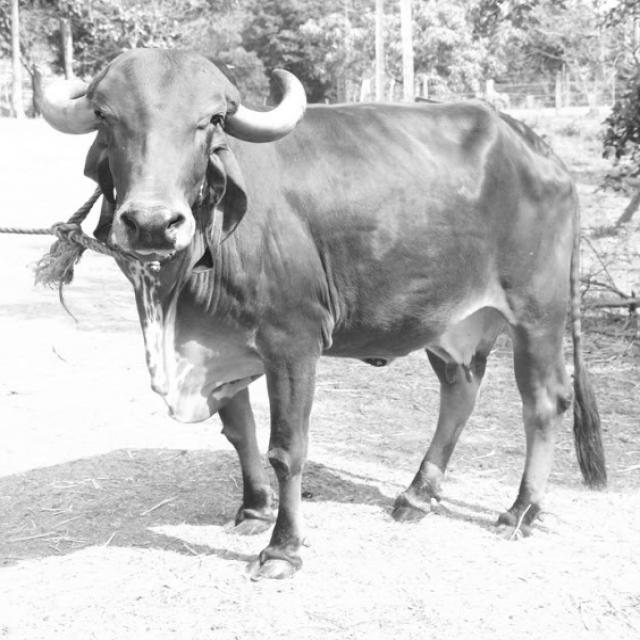Cow: (39, 46, 608, 581)
